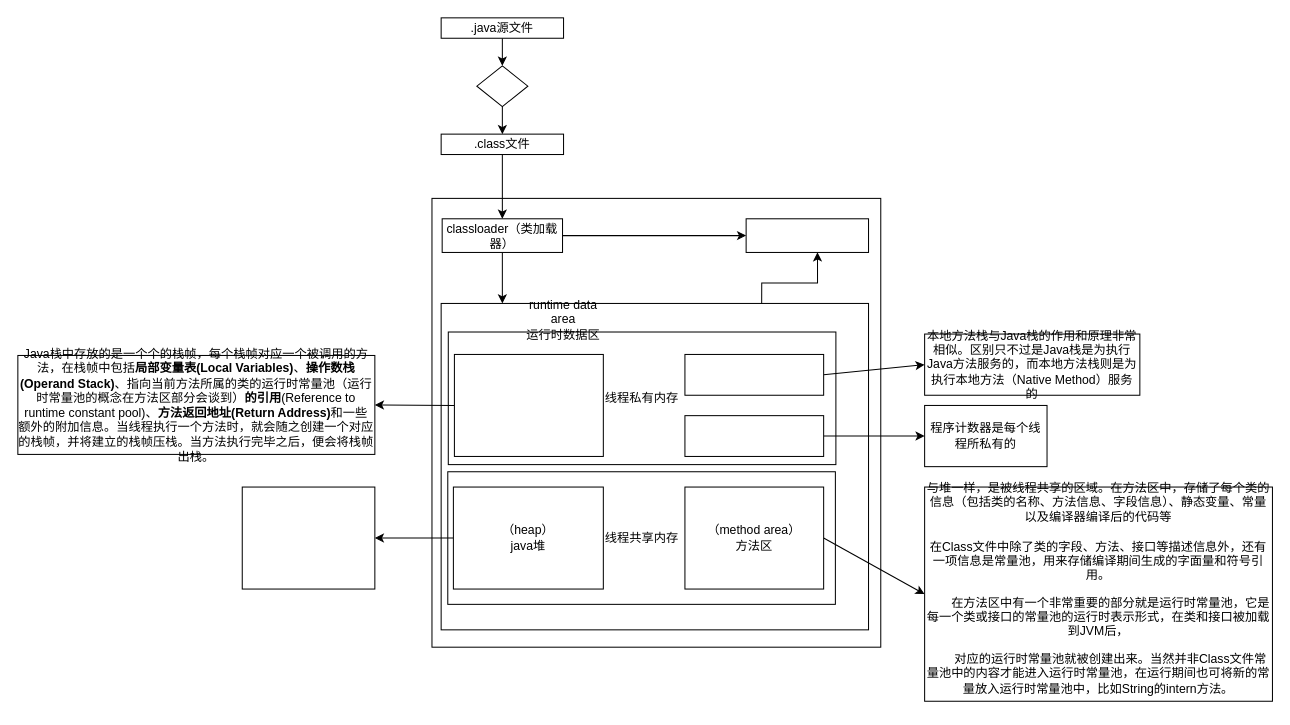
This 1290x725 diagram has some shape labels left out. Each missing label, with the centre of its shape:
"execution engine（执行引擎）" goes at [807,235].
"Java中的堆是用来存储对象本身的以及数组（数组引用是存放在Java栈中的）。堆是被所有线程共享的，在JVM中只有一个堆" goes at [308,537].
"java编译" goes at [502,86].
"（native method area） 本地方法区" goes at [754,374].
"（program counter register） 程序计数器" goes at [754,435].
"（vm stack） java栈" goes at [528,404].
